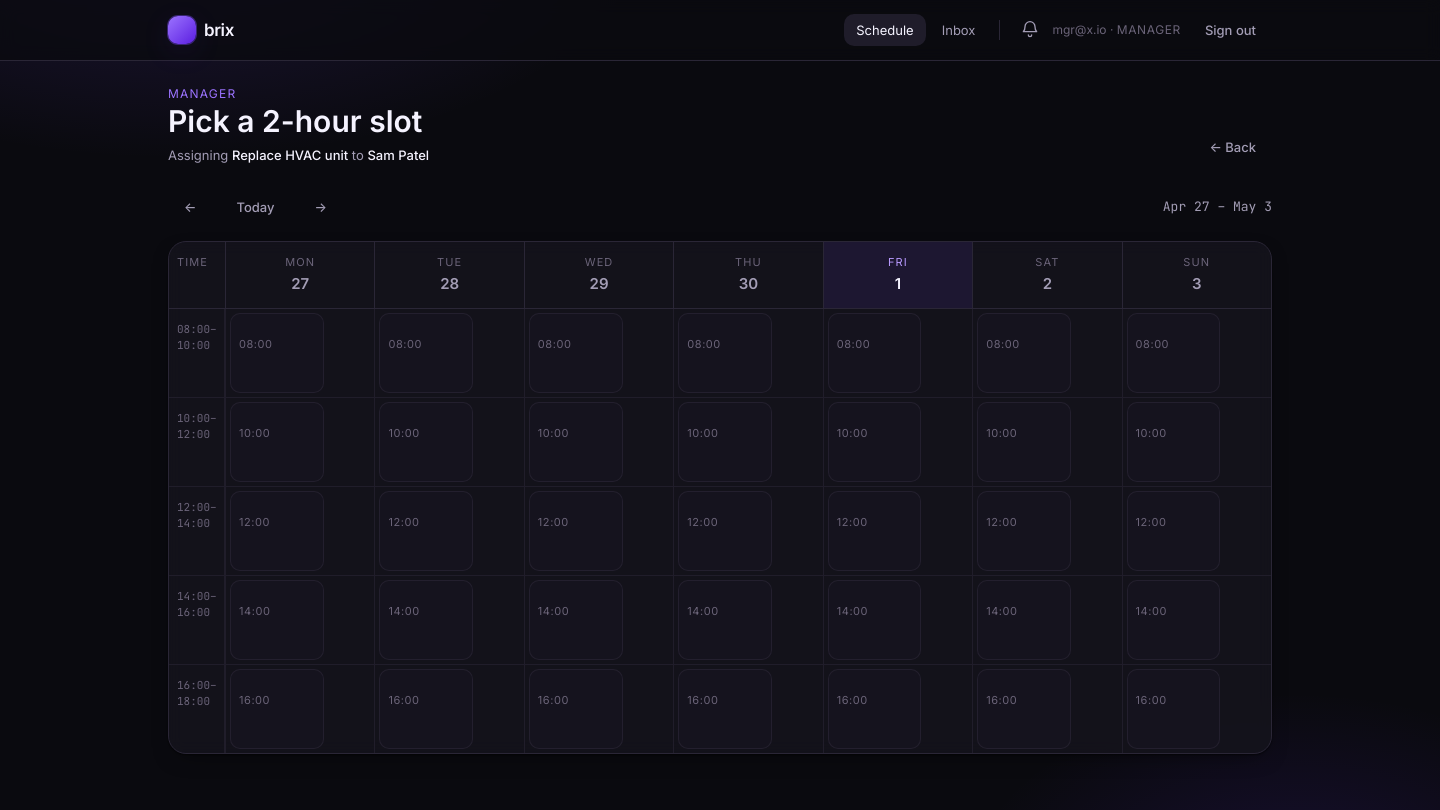
Test: ManagerSchedule › shows inline error in modal on 409 conflict
Check: the text "Mon" is shown, box 285,254 -> 315,268
Click the 1st button "08:00".
click(277, 352)  # box 230,312 -> 324,392
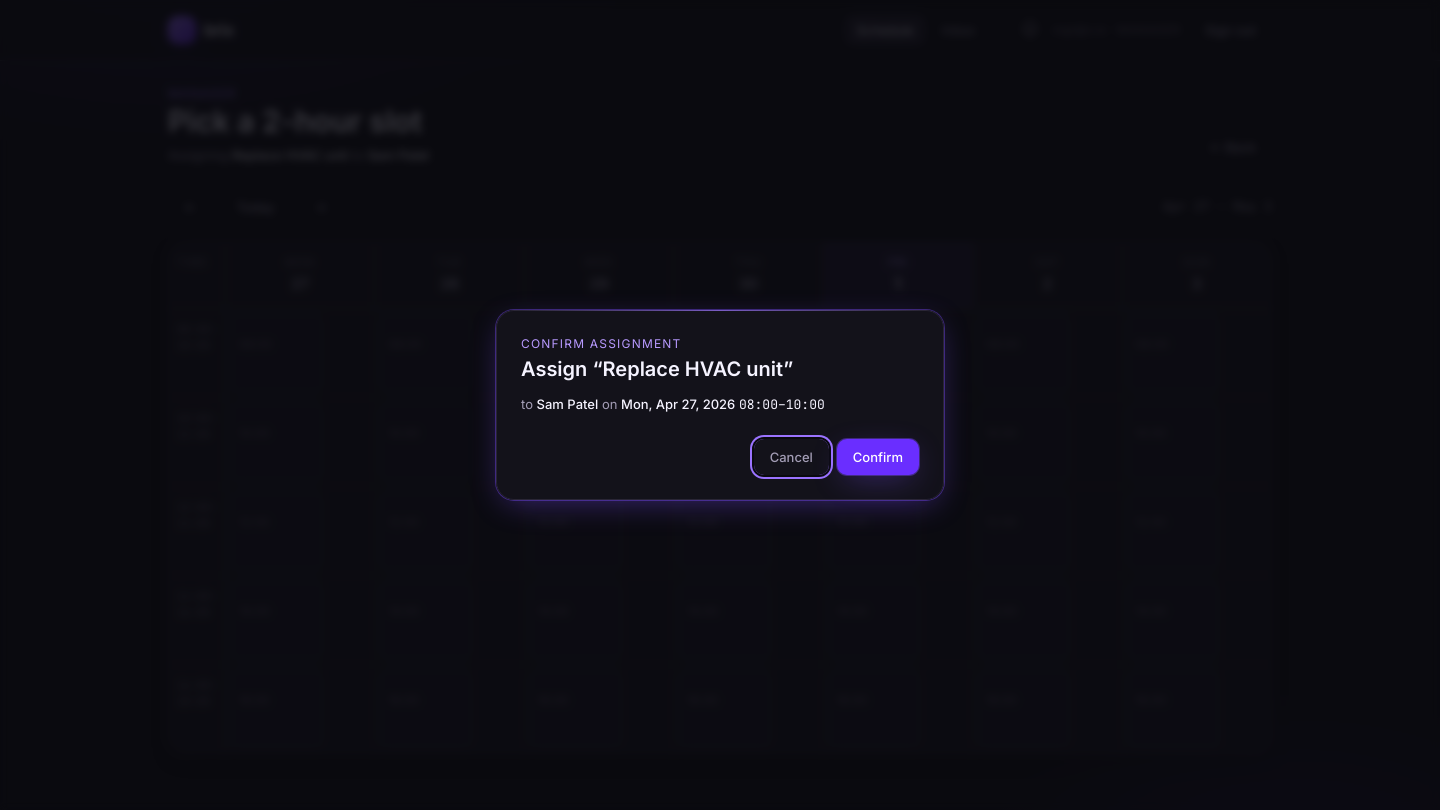
Click the button "Confirm".
click(878, 457)  # box 837,439 -> 919,475
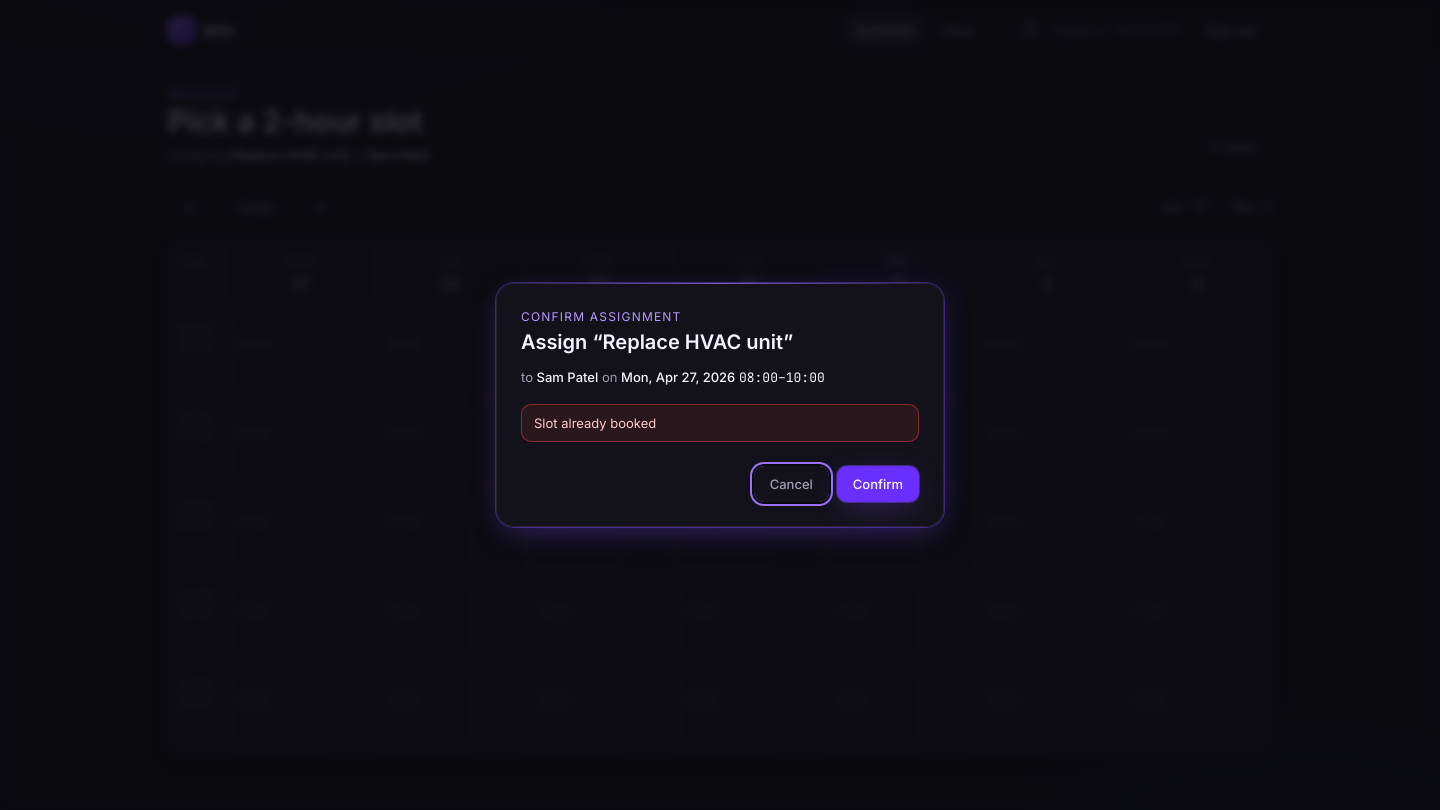
Check: the message reads "Slot already booked", box 534,415 -> 656,431
